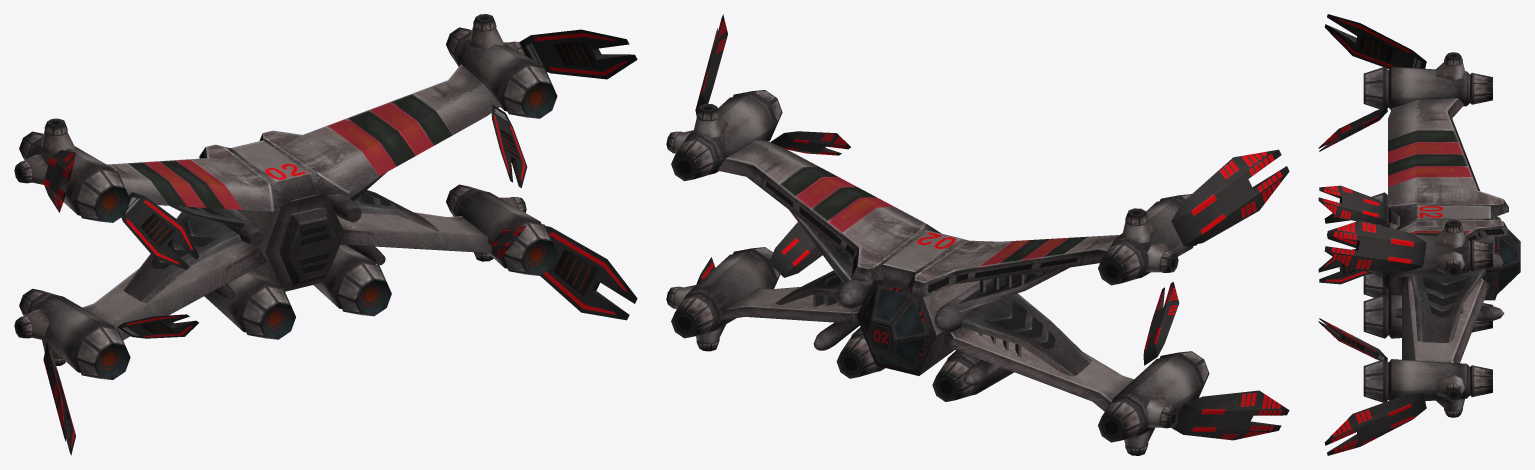
File: red_drone_01.FBX
3 views of the same model, side by side, from view 1: azimuth 30°, elevation 25°; view 2: azimuth 150°, elevation 25°; view 3: azimuth 270°, elevation 25° (orthographic). The views are drawn at different scales.
Parts seen in each view (by area): view 1: space01; view 2: space01; view 3: space01.
Part boxes in pixels (bbox=[...]): space01: bbox=[14, 14, 637, 455]; space01: bbox=[666, 14, 1289, 455]; space01: bbox=[1318, 14, 1520, 455].
Bounding box in the file's own units: 27.7 × 13.07 × 10.56.
